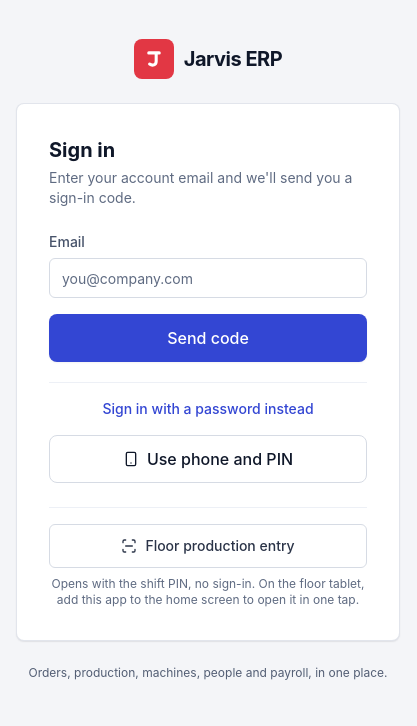
Test: when the server says it cannot send email › still refuses an ordinary error — that one is worth retrying
Type "navin@balu.com" into the field labelled "Email" at (208, 278), box [49, 258, 367, 298]
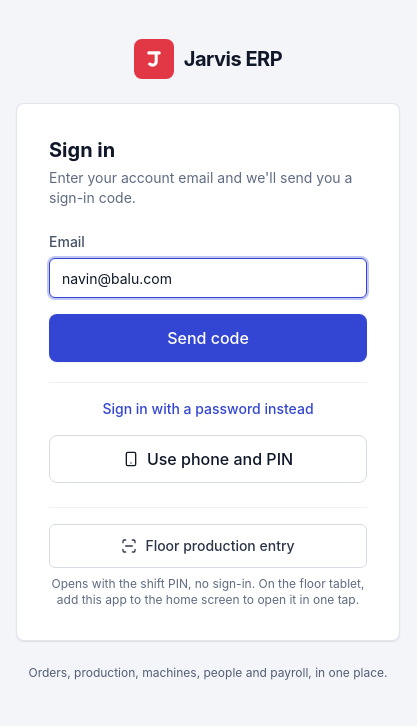
Click the button "Send code" at (208, 338), box [49, 314, 367, 362]
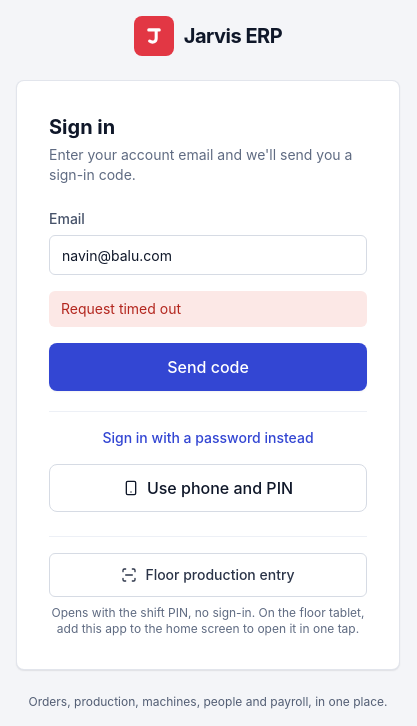
Now the text "Request timed out" is shown, box [49, 291, 367, 327]
